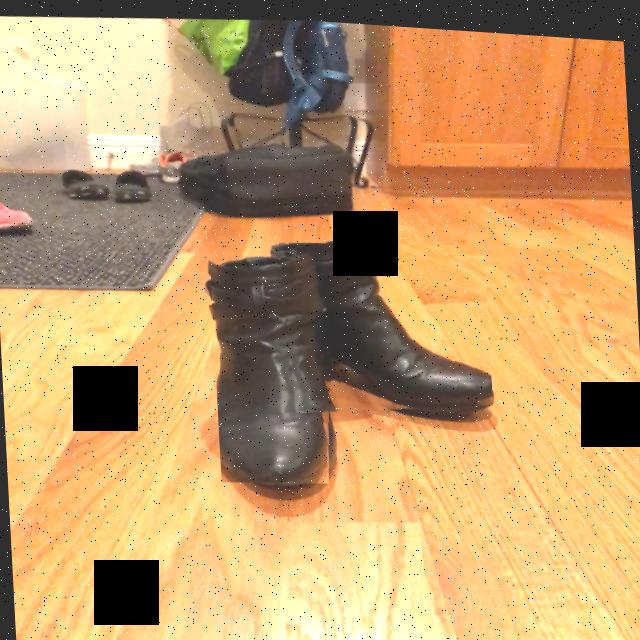shoe: (279, 239, 492, 402), (211, 248, 331, 479)
